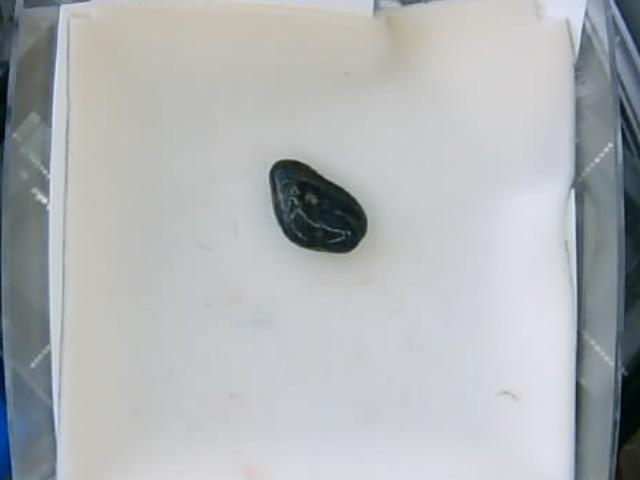Pebble: (269, 158, 369, 255)
